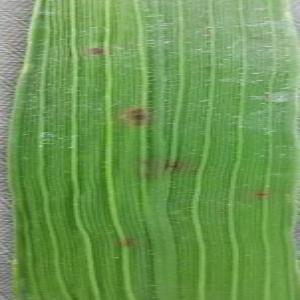0 BrownSpot: (119, 102, 153, 129), (113, 234, 142, 253), (160, 156, 186, 177), (83, 41, 108, 61), (251, 187, 271, 200)
